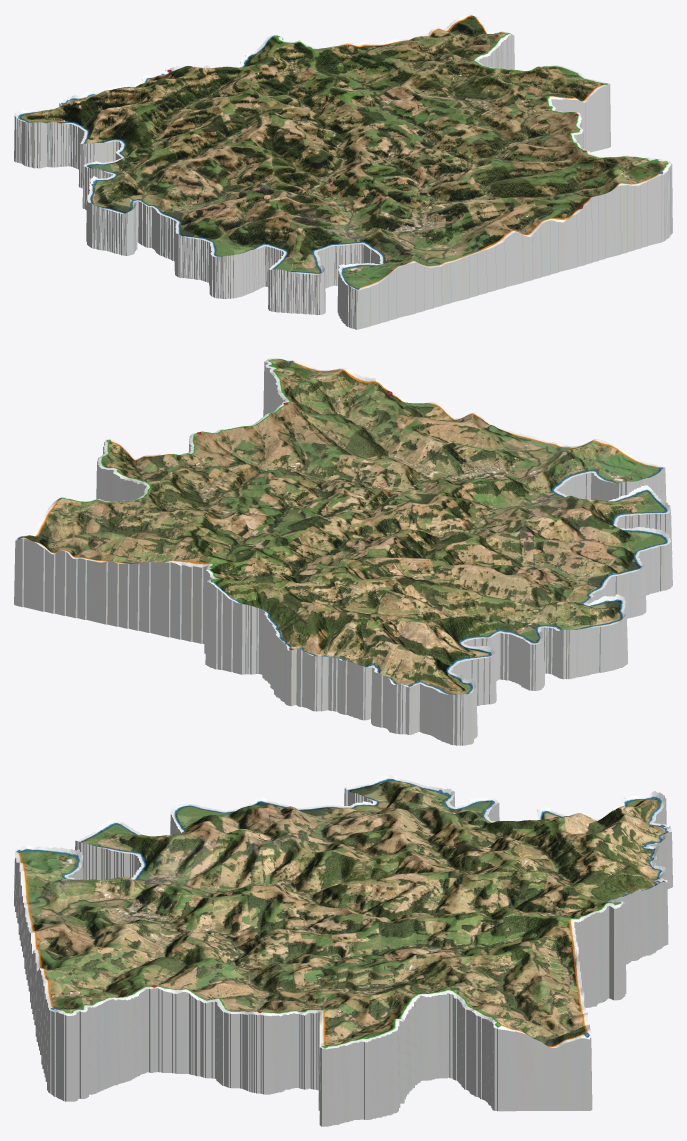
3 renders of one model, top to bottom at view 1: azimuth 30°, elevation 25°; view 2: azimuth 150°, elevation 25°; view 3: azimuth 270°, elevation 25°, orthographic. The views are drawn at different scales.
Bounding box in the file's own units: 0.9999 × 0.146 × 0.9332.
Materials: 1 (1 with a texture image).
